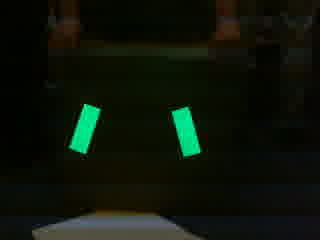target: (64, 101, 205, 160)
